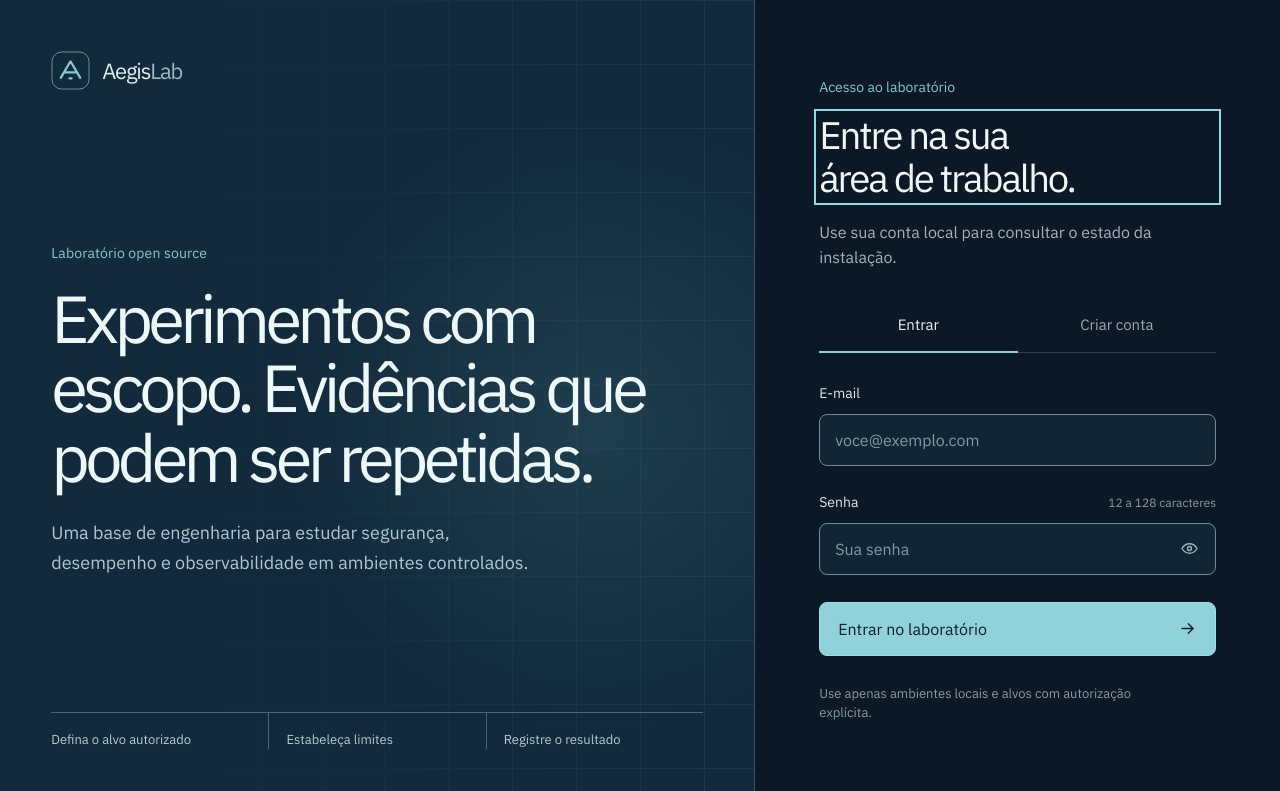
Test: AegisLab interface › allows local sign in and shows only module states returned by the API
Type "analista@example.test" into the field labelled "E-mail" at (1018, 440), box x1=819 y1=414 x2=1216 y2=466
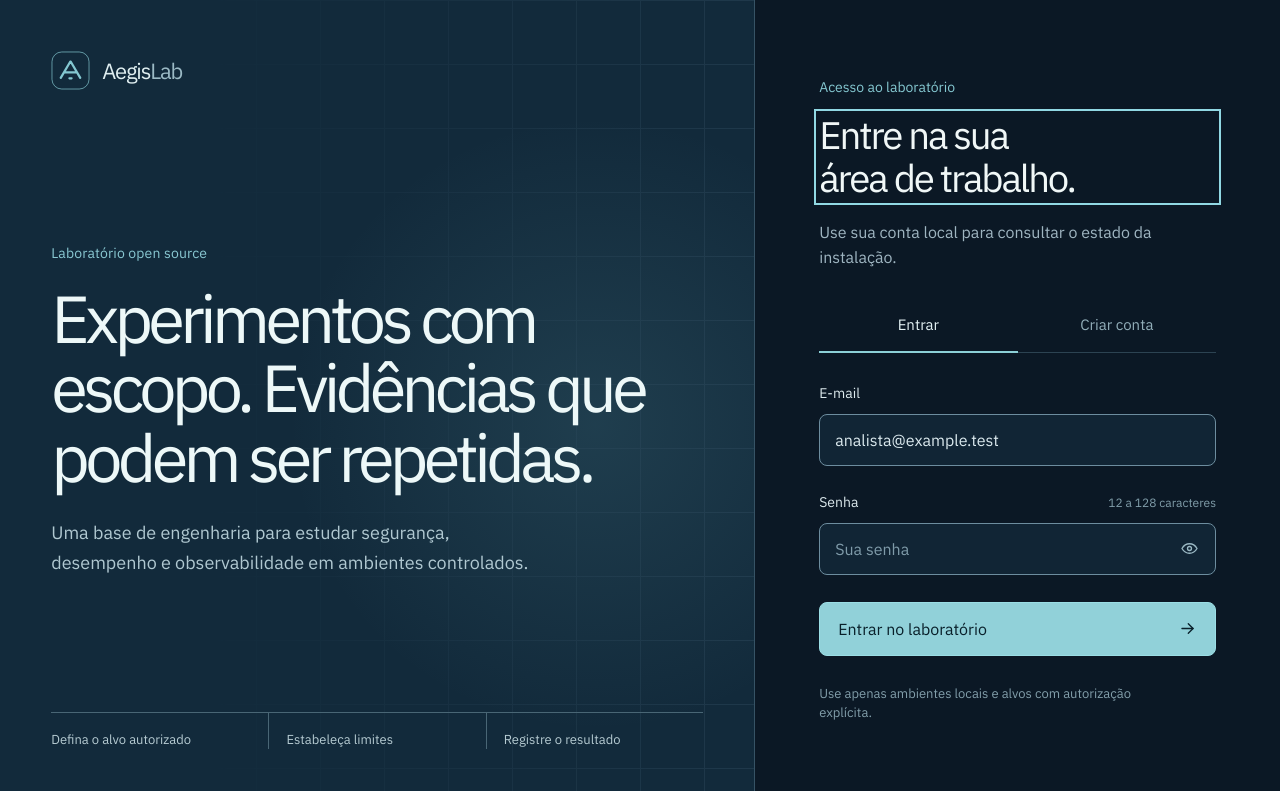
Type "strong-password-123" into the password field labelled "Senha" at (1018, 548), box x1=819 y1=522 x2=1216 y2=574
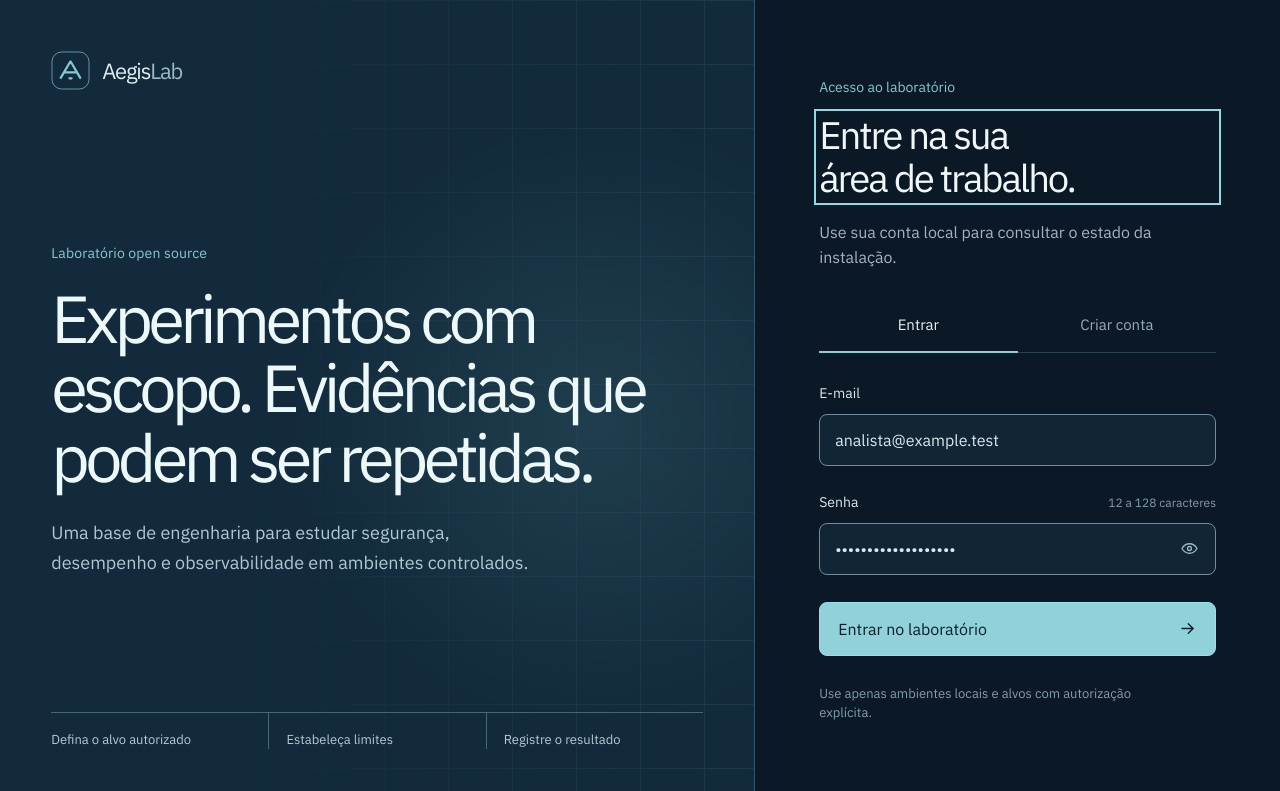
Click the button "Entrar no laboratório" at (913, 629), box x1=819 y1=602 x2=1216 y2=656
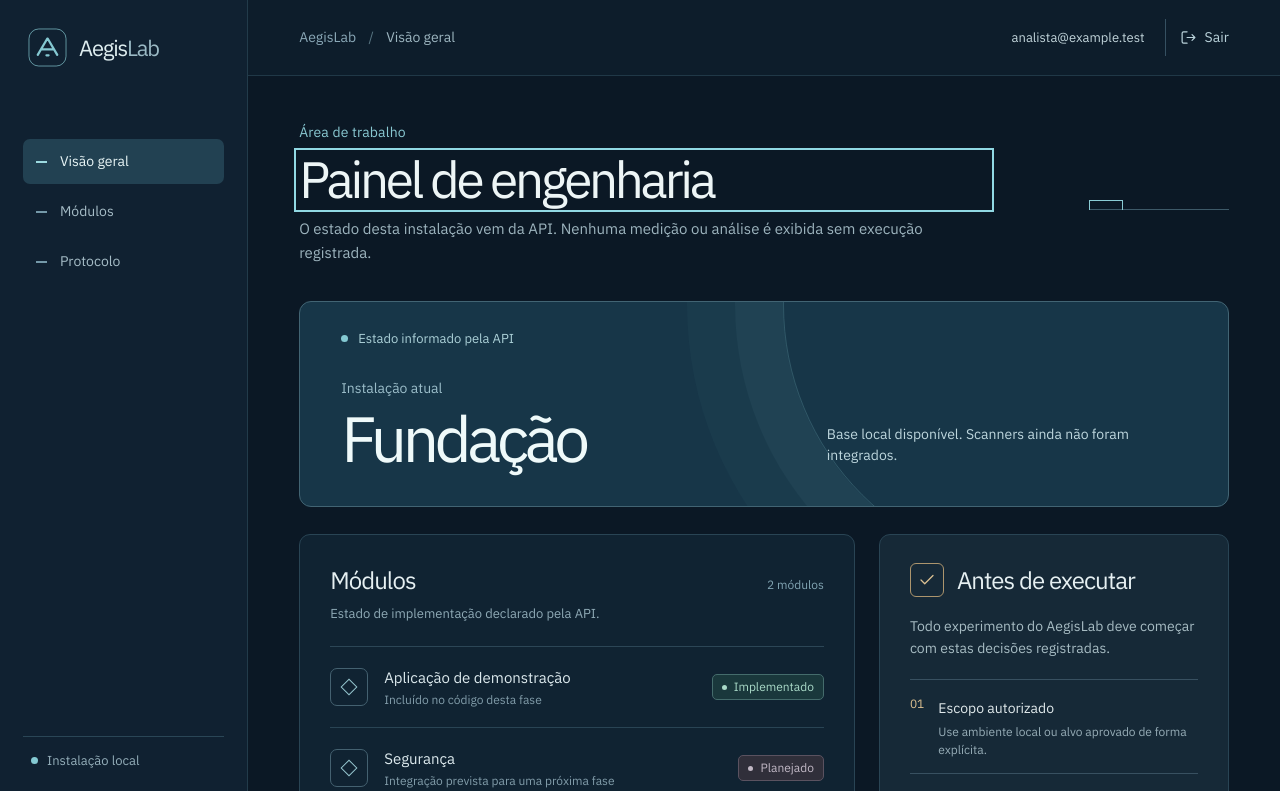
Expected: the heading "Painel de engenharia" is shown, x1=299 y1=146 x2=714 y2=212
Expected: the text "Base local disponível. Scanners ainda não foram integrados." is shown, x1=827 y1=425 x2=1129 y2=464
Expected: the heading "Aplicação de demonstração" is shown, x1=384 y1=668 x2=571 y2=687
